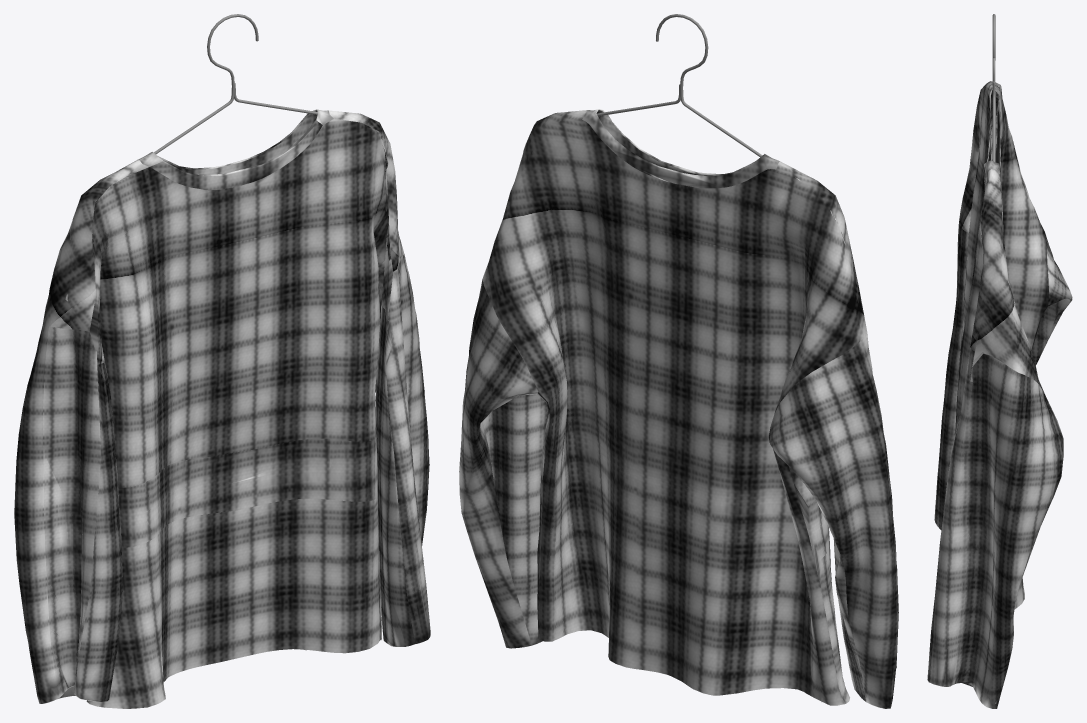
The model's file is Jersey.FBX.
The picture shows the model from 3 angles, left to right: view 1: azimuth 30°, elevation 25°; view 2: azimuth 150°, elevation 25°; view 3: azimuth 270°, elevation 25°; orthographic projection. The views are drawn at different scales.
Parts seen in each view (by area): view 1: jersey, hanger; view 2: jersey, hanger; view 3: jersey, hanger.
Boxes of the visible parts, x1=… form: jersey: x1=14, y1=109, x2=430, y2=708; hanger: x1=154, y1=14, x2=317, y2=154; jersey: x1=459, y1=109, x2=898, y2=708; hanger: x1=597, y1=14, x2=762, y2=157; jersey: x1=927, y1=81, x2=1072, y2=708; hanger: x1=992, y1=14, x2=995, y2=162.
Bounding box in the file's own units: 22.36 × 7.24 × 33.83.
